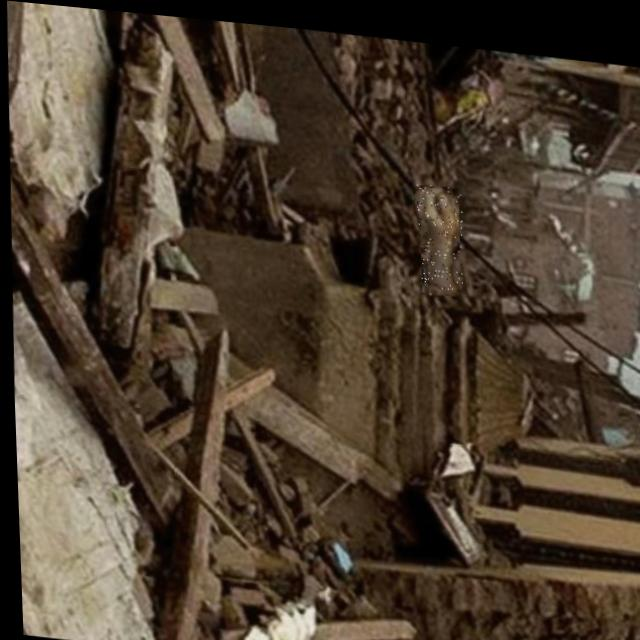Person in Rubble: (412, 174, 462, 289)
